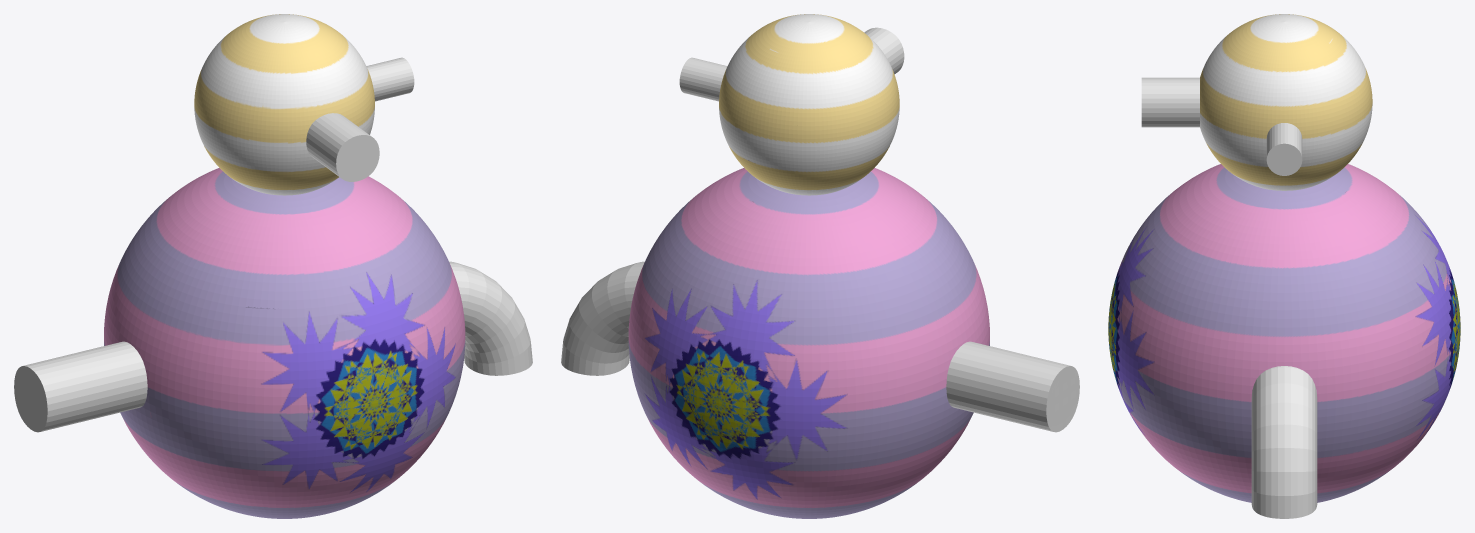
Rendered from BOD0_BMC16_BCC17_BPT1_FRC21_HEA0_HMC13_HCC2_HPT1_ELT0_ERT1_ELL2_ERL0_AP3_AAL0_AAR2_BEK1.fbx.
The picture shows the model from 3 angles, left to right: view 1: azimuth 30°, elevation 25°; view 2: azimuth 150°, elevation 25°; view 3: azimuth 270°, elevation 25°; orthographic projection. The views are drawn at different scales.
Visible parts, largest first — view 1: Body, Arm.001, Arm, Beak, Ear; view 2: Body, Arm.001, Arm, Ear, Beak; view 3: Body, Arm, Beak, Ear.
Boxes of the visible parts, x1,y1,x2,y2 form: Body: [104, 14, 465, 518]; Arm.001: [14, 341, 147, 432]; Arm: [449, 261, 532, 375]; Beak: [306, 113, 379, 181]; Ear: [366, 57, 414, 101]; Body: [628, 14, 989, 518]; Arm.001: [946, 341, 1079, 432]; Arm: [561, 261, 644, 375]; Ear: [679, 57, 727, 101]; Beak: [864, 27, 904, 74]; Body: [1108, 14, 1460, 502]; Arm: [1251, 366, 1317, 518]; Beak: [1141, 77, 1199, 127]; Ear: [1266, 123, 1302, 175].
Bounding box in the file's own units: 78.31 × 72.41 × 49.36.
Materials: 1 (1 with a texture image).
